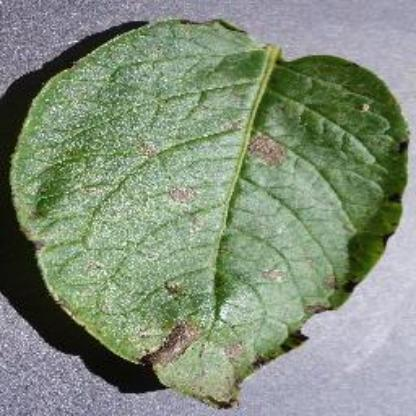Early-Blight: (2, 8, 414, 416)
